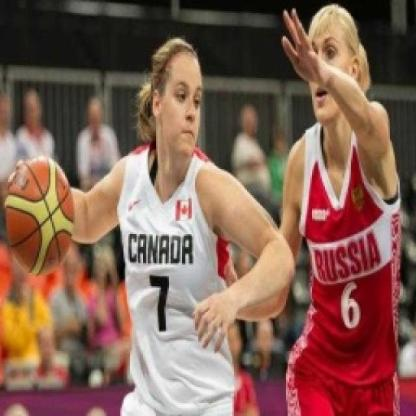basketball: (3, 152, 80, 279)
